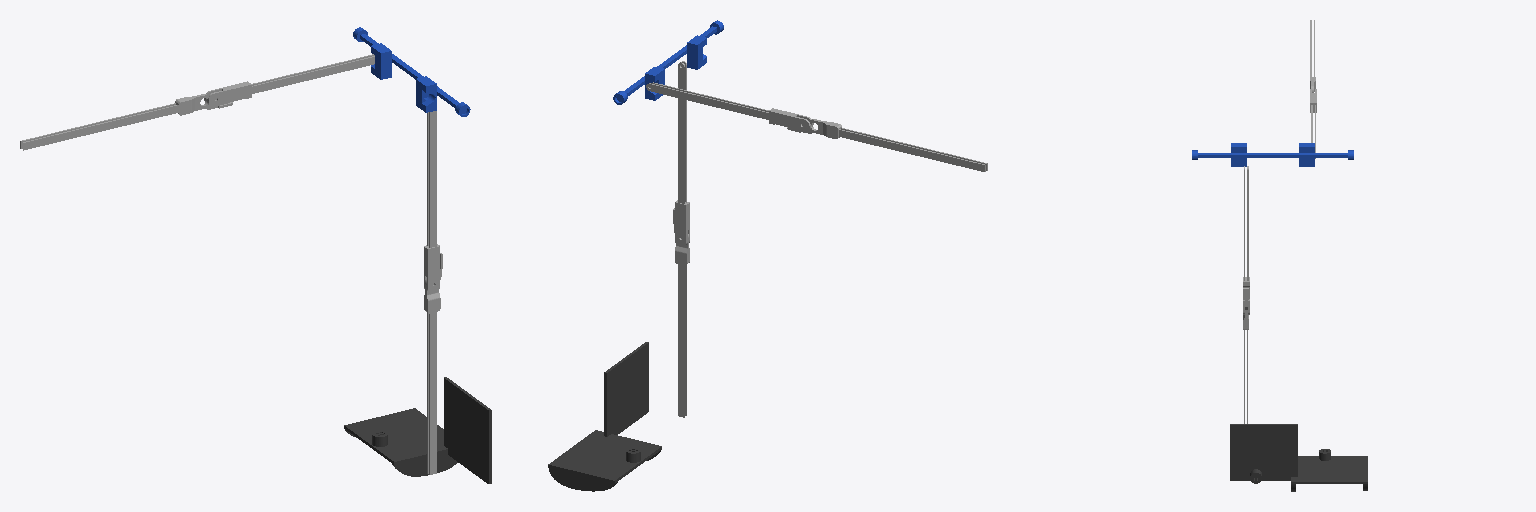
robot.urdf — pady:
<?xml version="1.0"?>
<!-- PaDy Bipedal Walker URDF
     ===================================================================
     MESH COORDINATE SYSTEM NOTE
     ===================================================================
     All STL files were exported from Fusion 360 as a single assembly in
     absolute CAD world coordinates (Y-up convention).  In the CAD frame:
       CAD X → URDF Y  (lateral, +left)
       CAD Y → URDF Z  (vertical, +up)
       CAD Z → URDF X  (sagittal, +forward)

     Every visual/collision <origin> therefore carries:
       rpy="1.5708 0 1.5708"   (Rx=90°, Rz=90° — maps CAD axes to URDF)
       xyz = −R · P_joint_cad  (cancels each joint's absolute CAD position)

     Joint positions read from STL bounding boxes (mm, CAD frame):
       base_link origin : (0,    1018, 0)
       hip joints       : (±107.86, 1001, 0)   [+x = left, −x = right]
       knee joints      : (±107.86,  501, 0)
       foot joints      : (±107.86,    1, 20)  [20 mm forward in CAD Z]

     Hip / knee joint origins and limits define the kinematics and are
     correct — only the visual/collision origins needed fixing.
-->

<robot name="pady">

  <!-- ═══════════════════════════════════════════════════════════════
       BASE LINK  (hip / pelvis)
       ═══════════════════════════════════════════════════════════════ -->
  <link name="base_link">
    <visual>
      <!-- CAD origin (0,1018,0) mm → offset (0, 0, -1.018) m -->
      <origin xyz="0 0 -1.018" rpy="1.5708 0 1.5708"/>
      <geometry>
        <mesh filename="package://pady_robot/meshes/visual/base_link.stl" scale="0.001 0.001 0.001"/>
      </geometry>
      <material name="blue"><color rgba="0.2 0.4 0.8 1.0"/></material>
    </visual>
    <collision>
      <origin xyz="0 0 -1.018" rpy="1.5708 0 1.5708"/>
      <geometry>
        <mesh filename="package://pady_robot/meshes/visual/base_link.stl" scale="0.001 0.001 0.001"/>
      </geometry>
    </collision>
    <inertial>
      <mass value="1.600"/>
      <origin xyz="0 0 -0.015" rpy="0 0 0"/>
      <inertia ixx="0.002133" ixy="0.0" ixz="0.0" iyy="0.006667" iyz="0.0" izz="0.008373"/>
    </inertial>
  </link>

  <!-- ═══════════════════════════════════════════════════════════════
       RIGHT LEG
       ═══════════════════════════════════════════════════════════════ -->

  <!-- Hip Joint Right – revolute, sagittal plane (Y-axis) -->
  <joint name="hip_joint_right" type="revolute">
    <parent link="base_link"/>
    <child link="thigh_right"/>
    <origin xyz="0 -0.10786 -0.017" rpy="0 0 0"/>
    <axis xyz="0 1 0"/>
    <limit effort="0" lower="-0.5236" upper="0.5236" velocity="10.0"/>
    <dynamics damping="0.001" friction="0.001"/>
  </joint>

  <link name="thigh_right">
    <visual>
      <!-- CAD joint (−107.86, 1001, 0) → offset (0, +0.10786, −1.001) -->
      <origin xyz="0 0.10786 -1.001" rpy="1.5708 0 1.5708"/>
      <geometry>
        <mesh filename="package://pady_robot/meshes/visual/thigh_right.stl" scale="0.001 0.001 0.001"/>
      </geometry>
      <material name="grey"><color rgba="0.7 0.7 0.7 1.0"/></material>
    </visual>
    <collision>
      <origin xyz="0 0.10786 -1.001" rpy="1.5708 0 1.5708"/>
      <geometry>
        <mesh filename="package://pady_robot/meshes/visual/thigh_right.stl" scale="0.001 0.001 0.001"/>
      </geometry>
    </collision>
    <inertial>
      <mass value="0.437"/>
      <origin xyz="0 0 -0.0475" rpy="0 0 0"/>
      <inertia ixx="0.009162" ixy="0.0" ixz="0.0" iyy="0.009162" iyz="0.0" izz="0.000058"/>
    </inertial>
  </link>

  <!-- Knee Joint Right
       lower=0.0  → fully extended = LOCKED against hyperextension (stance phase)
       upper=1.1345 (~65°) → backward flexion via positive Y rotation (swing phase)
       axis "0 1 0": Rx(+) swings shin tip in −X (backward) = correct knee flexion -->
  <joint name="knee_joint_right" type="revolute">
    <parent link="thigh_right"/>
    <child link="shin_right"/>
    <origin xyz="0 0 -0.500" rpy="0 0 0"/>
    <axis xyz="0 1 0"/>
    <limit effort="0" lower="0.0" upper="1.1345" velocity="10.0"/>
    <dynamics damping="0.001" friction="0.001"/>
  </joint>

  <link name="shin_right">
    <visual>
      <!-- CAD joint (−107.86, 501, 0) → offset (0, +0.10786, −0.501) -->
      <origin xyz="0 0.10786 -0.501" rpy="1.5708 0 1.5708"/>
      <geometry>
        <mesh filename="package://pady_robot/meshes/visual/shin_right.stl" scale="0.001 0.001 0.001"/>
      </geometry>
      <material name="grey"/>
    </visual>
    <collision>
      <origin xyz="0 0.10786 -0.501" rpy="1.5708 0 1.5708"/>
      <geometry>
        <mesh filename="package://pady_robot/meshes/visual/shin_right.stl" scale="0.001 0.001 0.001"/>
      </geometry>
    </collision>
    <inertial>
      <mass value="0.350"/>
      <origin xyz="0 0 -0.032" rpy="0 0 0"/>
      <inertia ixx="0.007338" ixy="0.0" ixz="0.0" iyy="0.007338" iyz="0.0" izz="0.000047"/>
    </inertial>
  </link>

  <!-- Foot Joint Right – fixed (no ankle DOF) -->
  <joint name="foot_joint_right" type="fixed">
    <parent link="shin_right"/>
    <child link="foot_right"/>
    <origin xyz="0.020 0 -0.500" rpy="0 0 0"/>
  </joint>

  <link name="foot_right">
    <visual>
      <!-- rpy="0 0 4.71239" = Rz(-90°): CAD-X→-URDF-Y, CAD-Y→URDF-X, CAD-Z→URDF-Z
           xyz = -Rz(-90°) · P_joint/1000, P_joint=(-107.86, 1, 20)mm → (-0.001, -0.10786, -0.020) -->
      <origin xyz="0.1175 -0.1085 -0.020" rpy="0 0 4.71239"/>
      <geometry>
        <mesh filename="package://pady_robot/meshes/visual/right_foot.stl" scale="0.001 0.001 0.001"/>
      </geometry>
      <material name="dark_grey"><color rgba="0.3 0.3 0.3 1.0"/></material>
    </visual>
    <collision>
      <origin xyz="0.1175 -0.1085 -0.020" rpy="0 0 4.71239"/>
      <geometry>
        <mesh filename="package://pady_robot/meshes/visual/right_foot.stl" scale="0.001 0.001 0.001"/>
      </geometry>
    </collision>
    <inertial>
      <mass value="0.175"/>
      <origin xyz="0.040 0 -0.015" rpy="0 0 0"/>
      <inertia ixx="0.000118" ixy="0.0" ixz="0.0" iyy="0.000299" iyz="0.0" izz="0.000391"/>
    </inertial>
  </link>

  <!-- ═══════════════════════════════════════════════════════════════
       LEFT LEG
       ═══════════════════════════════════════════════════════════════ -->

  <!-- Hip Joint Left – revolute, sagittal plane (Y-axis) -->
  <joint name="hip_joint_left" type="revolute">
    <parent link="base_link"/>
    <child link="thigh_left"/>
    <origin xyz="0 0.10786 -0.017" rpy="0 0 0"/>
    <axis xyz="0 1 0"/>
    <limit effort="0" lower="-0.5236" upper="0.5236" velocity="10.0"/>
    <dynamics damping="0.001" friction="0.001"/>
  </joint>

  <link name="thigh_left">
    <visual>
      <!-- CAD joint (+107.86, 1001, 0) → offset (0, −0.10786, −1.001) -->
      <origin xyz="0 -0.10786 -1.001" rpy="1.5708 0 1.5708"/>
      <geometry>
        <mesh filename="package://pady_robot/meshes/visual/thigh_left.stl" scale="0.001 0.001 0.001"/>
      </geometry>
      <material name="grey"/>
    </visual>
    <collision>
      <origin xyz="0 -0.10786 -1.001" rpy="1.5708 0 1.5708"/>
      <geometry>
        <mesh filename="package://pady_robot/meshes/visual/thigh_left.stl" scale="0.001 0.001 0.001"/>
      </geometry>
    </collision>
    <inertial>
      <mass value="0.437"/>
      <origin xyz="0 0 -0.0475" rpy="0 0 0"/>
      <inertia ixx="0.009162" ixy="0.0" ixz="0.0" iyy="0.009162" iyz="0.0" izz="0.000058"/>
    </inertial>
  </link>

  <!-- Knee Joint Left
       lower=0.0 → straight leg locked during stance
       upper=1.1345 (~65°) → backward flexion during swing -->
  <joint name="knee_joint_left" type="revolute">
    <parent link="thigh_left"/>
    <child link="shin_left"/>
    <origin xyz="0 0 -0.500" rpy="0 0 0"/>
    <axis xyz="0 1 0"/>
    <limit effort="0" lower="0.0" upper="1.1345" velocity="10.0"/>
    <dynamics damping="0.001" friction="0.001"/>
  </joint>

  <link name="shin_left">
    <visual>
      <!-- CAD joint (+107.86, 501, 0) → offset (0, −0.10786, −0.501) -->
      <origin xyz="0 -0.10786 -0.501" rpy="1.5708 0 1.5708"/>
      <geometry>
        <mesh filename="package://pady_robot/meshes/visual/shin_left.stl" scale="0.001 0.001 0.001"/>
      </geometry>
      <material name="grey"/>
    </visual>
    <collision>
      <origin xyz="0 -0.10786 -0.501" rpy="1.5708 0 1.5708"/>
      <geometry>
        <mesh filename="package://pady_robot/meshes/visual/shin_left.stl" scale="0.001 0.001 0.001"/>
      </geometry>
    </collision>
    <inertial>
      <mass value="0.350"/>
      <origin xyz="0 0 -0.032" rpy="0 0 0"/>
      <inertia ixx="0.007338" ixy="0.0" ixz="0.0" iyy="0.007338" iyz="0.0" izz="0.000047"/>
    </inertial>
  </link>

  <!-- Foot Joint Left – fixed (no ankle DOF) -->
  <joint name="foot_joint_left" type="fixed">
    <parent link="shin_left"/>
    <child link="foot_left"/>
    <origin xyz="0.020 0 -0.500" rpy="0 0 0"/>
  </joint>

  <link name="foot_left">
    <visual>
      <!-- rpy="0 0 4.71239" = Rz(-90°): xyz = -Rz(-90°) · P_joint/1000
           P_joint=(+107.86, 1, 20)mm → (-0.001, +0.10786, -0.020) -->
      <origin xyz="0.1175 0.1097 -0.020" rpy="0 0 4.71239"/>
      <geometry>
        <mesh filename="package://pady_robot/meshes/visual/left_foot.stl" scale="0.001 0.001 0.001"/>
      </geometry>
      <material name="dark_grey"/>
    </visual>
    <collision>
      <origin xyz="0.1175 0.1097 -0.020" rpy="0 0 4.71239"/>
      <geometry>
        <mesh filename="package://pady_robot/meshes/visual/left_foot.stl" scale="0.001 0.001 0.001"/>
      </geometry>
    </collision>
    <inertial>
      <mass value="0.175"/>
      <origin xyz="0.040 0 -0.015" rpy="0 0 0"/>
      <inertia ixx="0.000118" ixy="0.0" ixz="0.0" iyy="0.000299" iyz="0.0" izz="0.000391"/>
    </inertial>
  </link>

  <!-- ═══════════════════════════════════════════════════════════════
       GAZEBO PROPERTIES
       ═══════════════════════════════════════════════════════════════ -->

  <!-- High foot friction so feet grip the slope surface -->
  <gazebo reference="foot_right">
    <mu1>0.8</mu1>
    <mu2>0.8</mu2>
    <kp>1000000.0</kp>
    <kd>100.0</kd>
  </gazebo>

  <gazebo reference="foot_left">
    <mu1>0.8</mu1>
    <mu2>0.8</mu2>
    <kp>1000000.0</kp>
    <kd>100.0</kd>
  </gazebo>

  <!-- Joint state publisher so Gazebo publishes joint angles to ROS -->
  <gazebo>
    <plugin filename="gz-sim-joint-state-publisher-system"
            name="gz::sim::systems::JointStatePublisher"/>
  </gazebo>

</robot>

--- What the picture shows (computed from the rendered views, not written in the file) ---
The picture shows the robot from 3 angles, left to right: view 1: azimuth 30°, elevation 25°; view 2: azimuth 150°, elevation 25°; view 3: azimuth 270°, elevation 25°; orthographic projection.
Robot: pady — 7 links, 6 joints (4 revolute, 2 fixed); root link base_link; default pose: all joints at 0.
Visible links, largest first — view 1: foot_left, foot_right, shin_left, base_link, thigh_right, thigh_left, shin_right; view 2: foot_left, foot_right, shin_left, thigh_left, thigh_right, base_link, shin_right; view 3: foot_right, foot_left, base_link.
Link boxes in pixels (x1,y1,x2,y2): foot_left: (344,408,457,476); foot_right: (444,377,491,483); shin_left: (20,94,232,150); base_link: (353,27,470,116); thigh_right: (424,111,439,293); thigh_left: (204,54,374,106); shin_right: (424,253,442,474); foot_left: (548,430,661,491); foot_right: (604,342,648,436); shin_left: (787,119,987,171); thigh_left: (646,82,813,131); thigh_right: (675,61,689,246); base_link: (613,20,723,104); shin_right: (673,208,689,417); foot_right: (1230,424,1297,483); foot_left: (1291,449,1367,491); base_link: (1192,143,1353,166).
Bounding box of the posed robot: 1.18 × 0.5506 × 1.13 m (x, y, z).
7 mesh visuals loaded from 7 distinct referenced files (7 binary STL).
